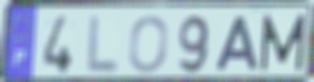4: (42, 14, 75, 76)
9: (177, 13, 211, 75)
A: (212, 15, 261, 72)
L: (83, 13, 121, 76)
M: (258, 13, 308, 74)
O: (127, 14, 170, 75)
